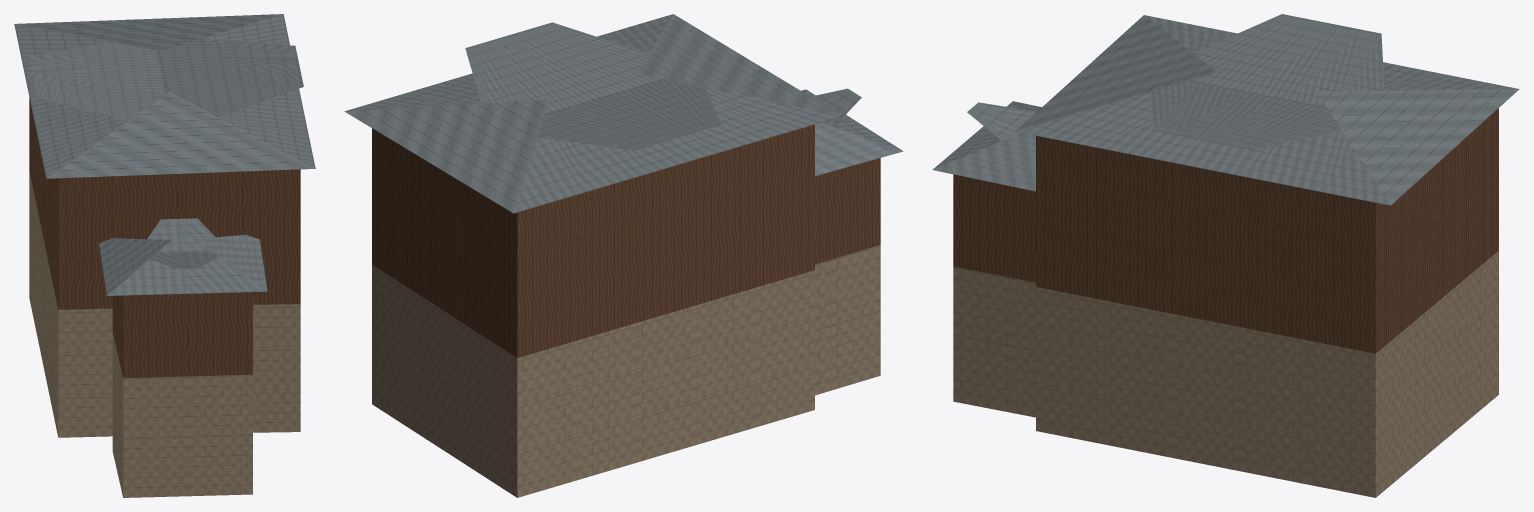
File: bld_c16_43_449.gltf
The picture shows the model from 3 angles, left to right: view 1: azimuth 30°, elevation 25°; view 2: azimuth 150°, elevation 25°; view 3: azimuth 270°, elevation 25°; orthographic projection. The views are drawn at different scales.
Parts seen in each view (by area): view 1: bld_c16_43_449; view 2: bld_c16_43_449; view 3: bld_c16_43_449.
Part boxes in pixels (<box>): bld_c16_43_449: <box>14,14,315,497</box>; bld_c16_43_449: <box>344,14,903,497</box>; bld_c16_43_449: <box>932,14,1519,497</box>.
Bounding box in the file's own units: 14.47 × 12.3 × 18.83.
Materials: 3 (3 with a texture image).
